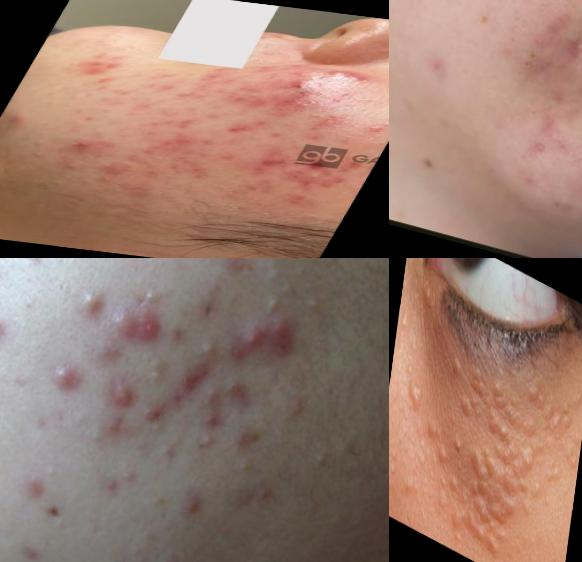acne_scars: (510, 95, 580, 171), (551, 16, 582, 80), (59, 56, 129, 84), (202, 119, 259, 141), (251, 156, 294, 172)
flat_wart: (500, 420, 568, 526), (482, 380, 546, 479), (465, 436, 530, 522), (460, 486, 513, 562), (525, 369, 579, 443), (444, 343, 491, 428), (421, 417, 470, 498), (406, 375, 429, 415)
milium: (396, 297, 416, 350)
papular: (95, 298, 174, 361), (35, 345, 95, 404), (228, 312, 281, 371), (98, 368, 154, 418), (161, 153, 239, 186), (134, 126, 206, 160), (166, 482, 216, 530), (262, 303, 304, 358), (298, 110, 360, 141), (133, 399, 177, 439), (67, 281, 102, 327), (100, 403, 139, 443), (17, 471, 58, 508), (223, 374, 258, 409), (193, 405, 227, 439), (87, 155, 133, 178), (1, 307, 23, 353), (271, 79, 319, 97), (1, 110, 37, 131), (56, 158, 89, 173)
purulent: (62, 135, 108, 155)
sebo-crystan-conglo: (276, 164, 339, 195), (319, 67, 378, 89)
whitehead: (176, 334, 226, 385), (135, 352, 177, 395), (276, 388, 314, 430), (186, 427, 218, 470), (309, 439, 341, 482), (299, 288, 332, 322), (256, 289, 289, 322), (110, 463, 144, 494), (155, 436, 186, 468), (223, 452, 251, 484), (138, 283, 165, 316), (16, 144, 62, 163), (82, 423, 111, 453), (34, 459, 63, 485), (144, 545, 183, 562), (68, 408, 94, 433), (66, 174, 105, 189), (19, 292, 43, 316), (19, 259, 52, 272)
